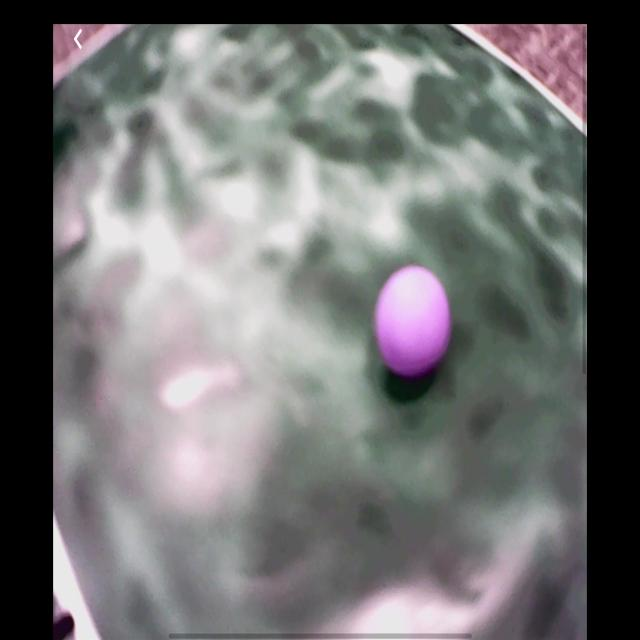ball: (377, 268, 452, 378)
